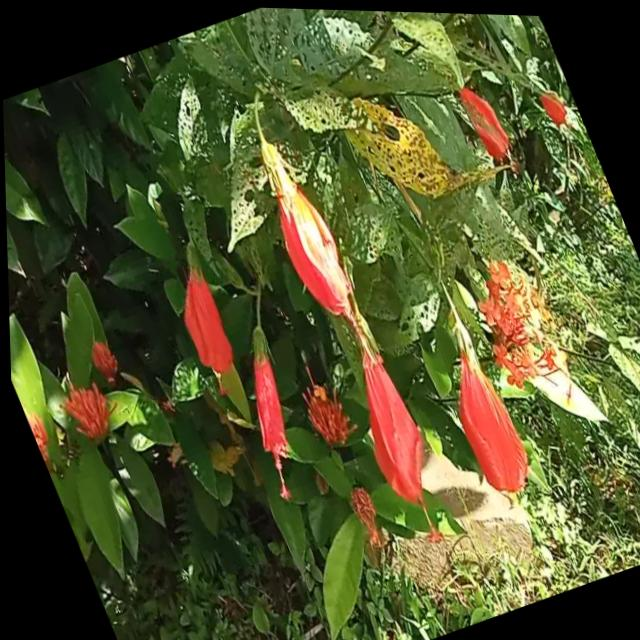Flower: (319, 302, 464, 557), (241, 127, 368, 344), (419, 311, 544, 512), (214, 317, 329, 504), (151, 232, 255, 405), (451, 65, 524, 181), (524, 66, 578, 137)
